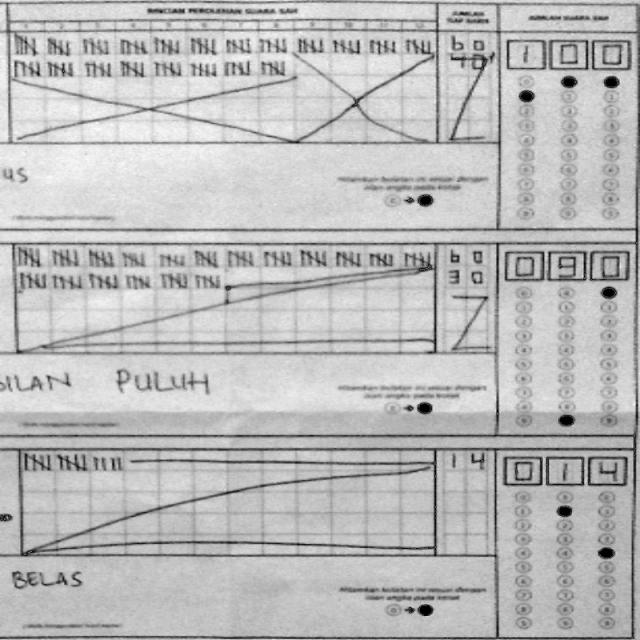Suara: (502, 449, 630, 486), (506, 246, 628, 283), (503, 30, 631, 63)
